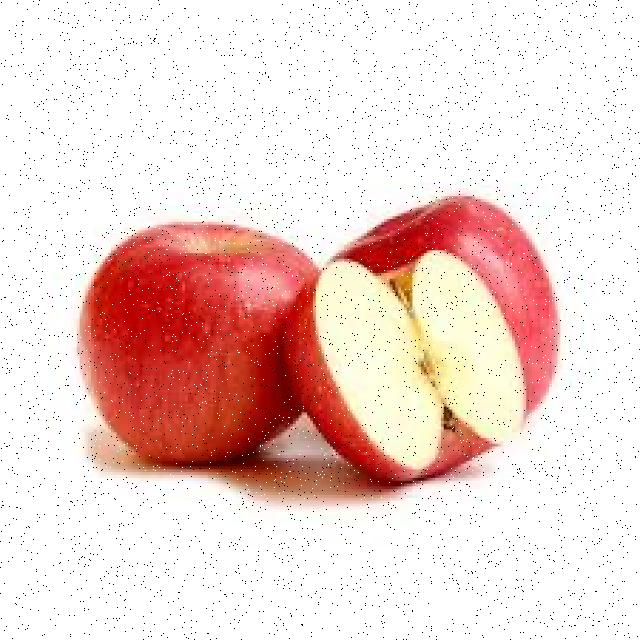Apple: (77, 224, 311, 468), (284, 254, 525, 482), (449, 186, 558, 400)
